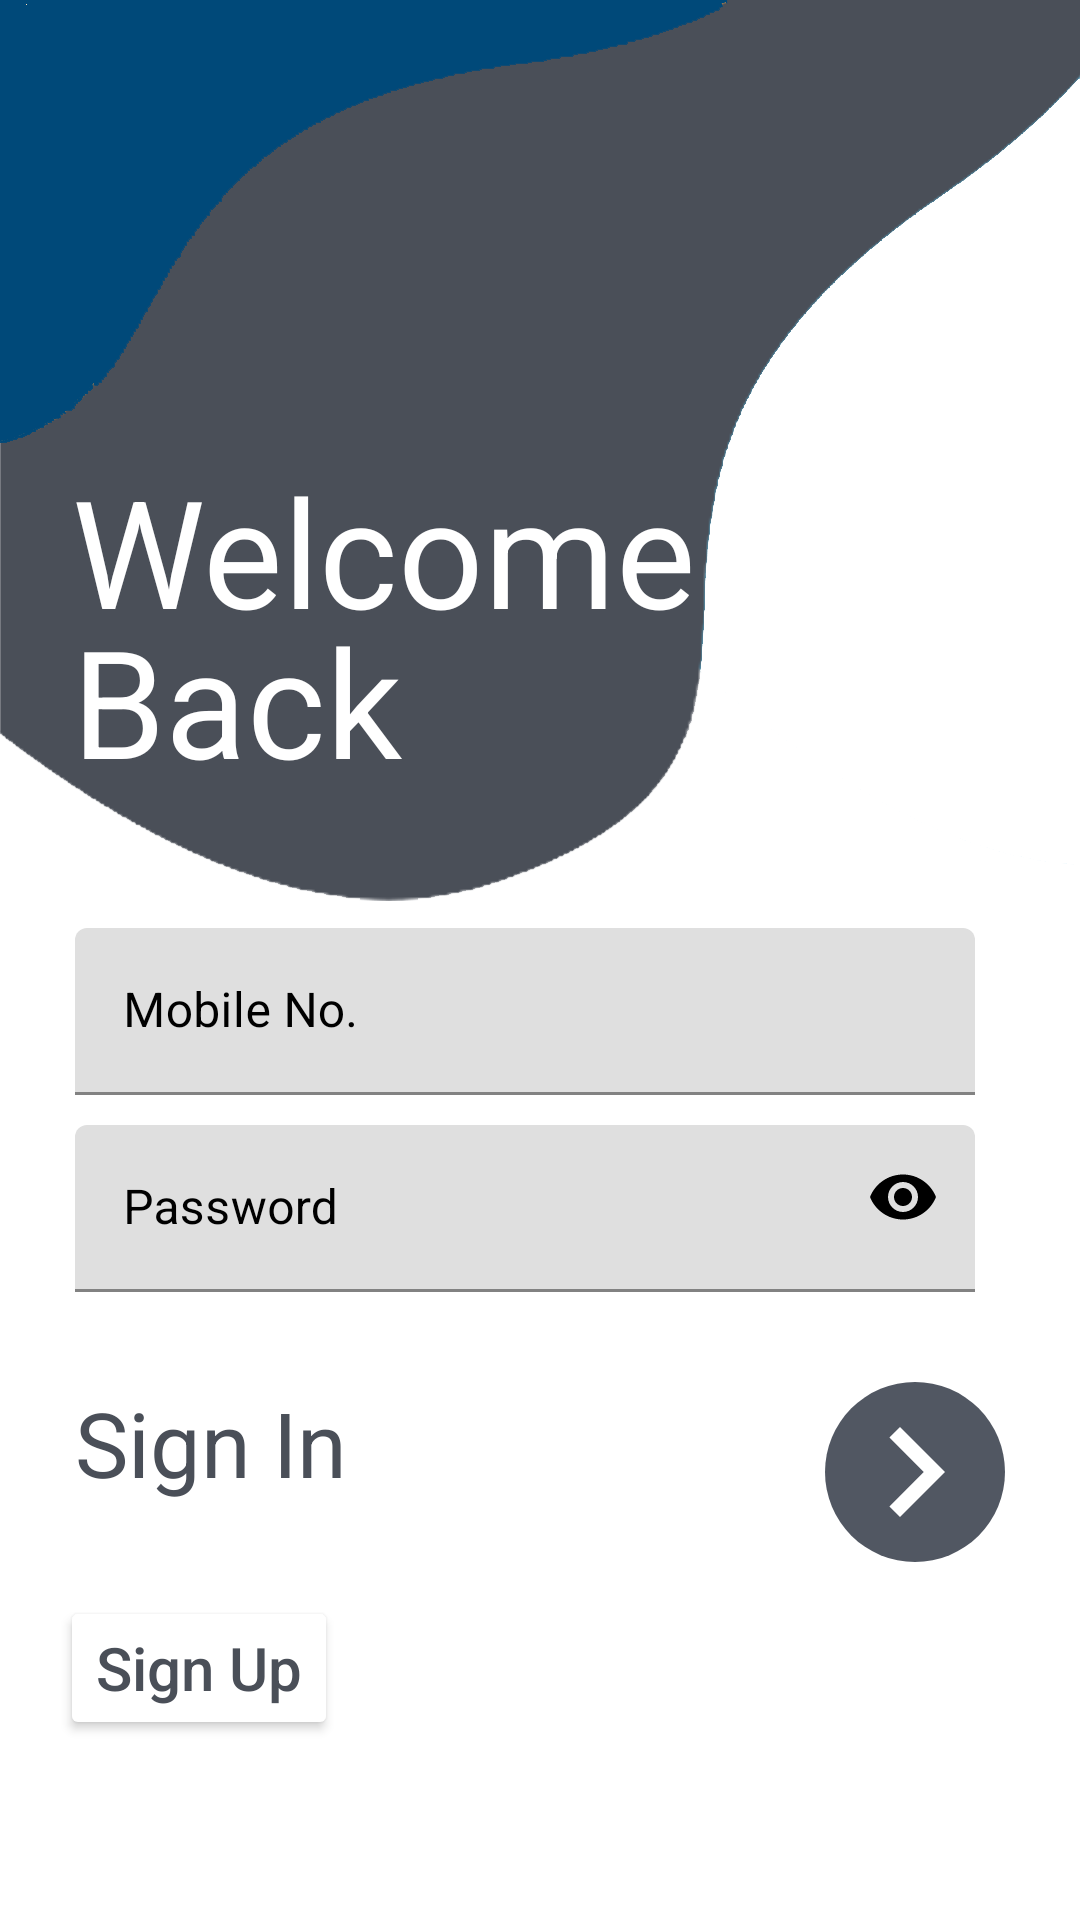

Icon bounding boxes for this 1080px x 1920px phone screenshot, format [x1, y1, x2, y2]:
navigate next: [825, 1382, 1005, 1562]
